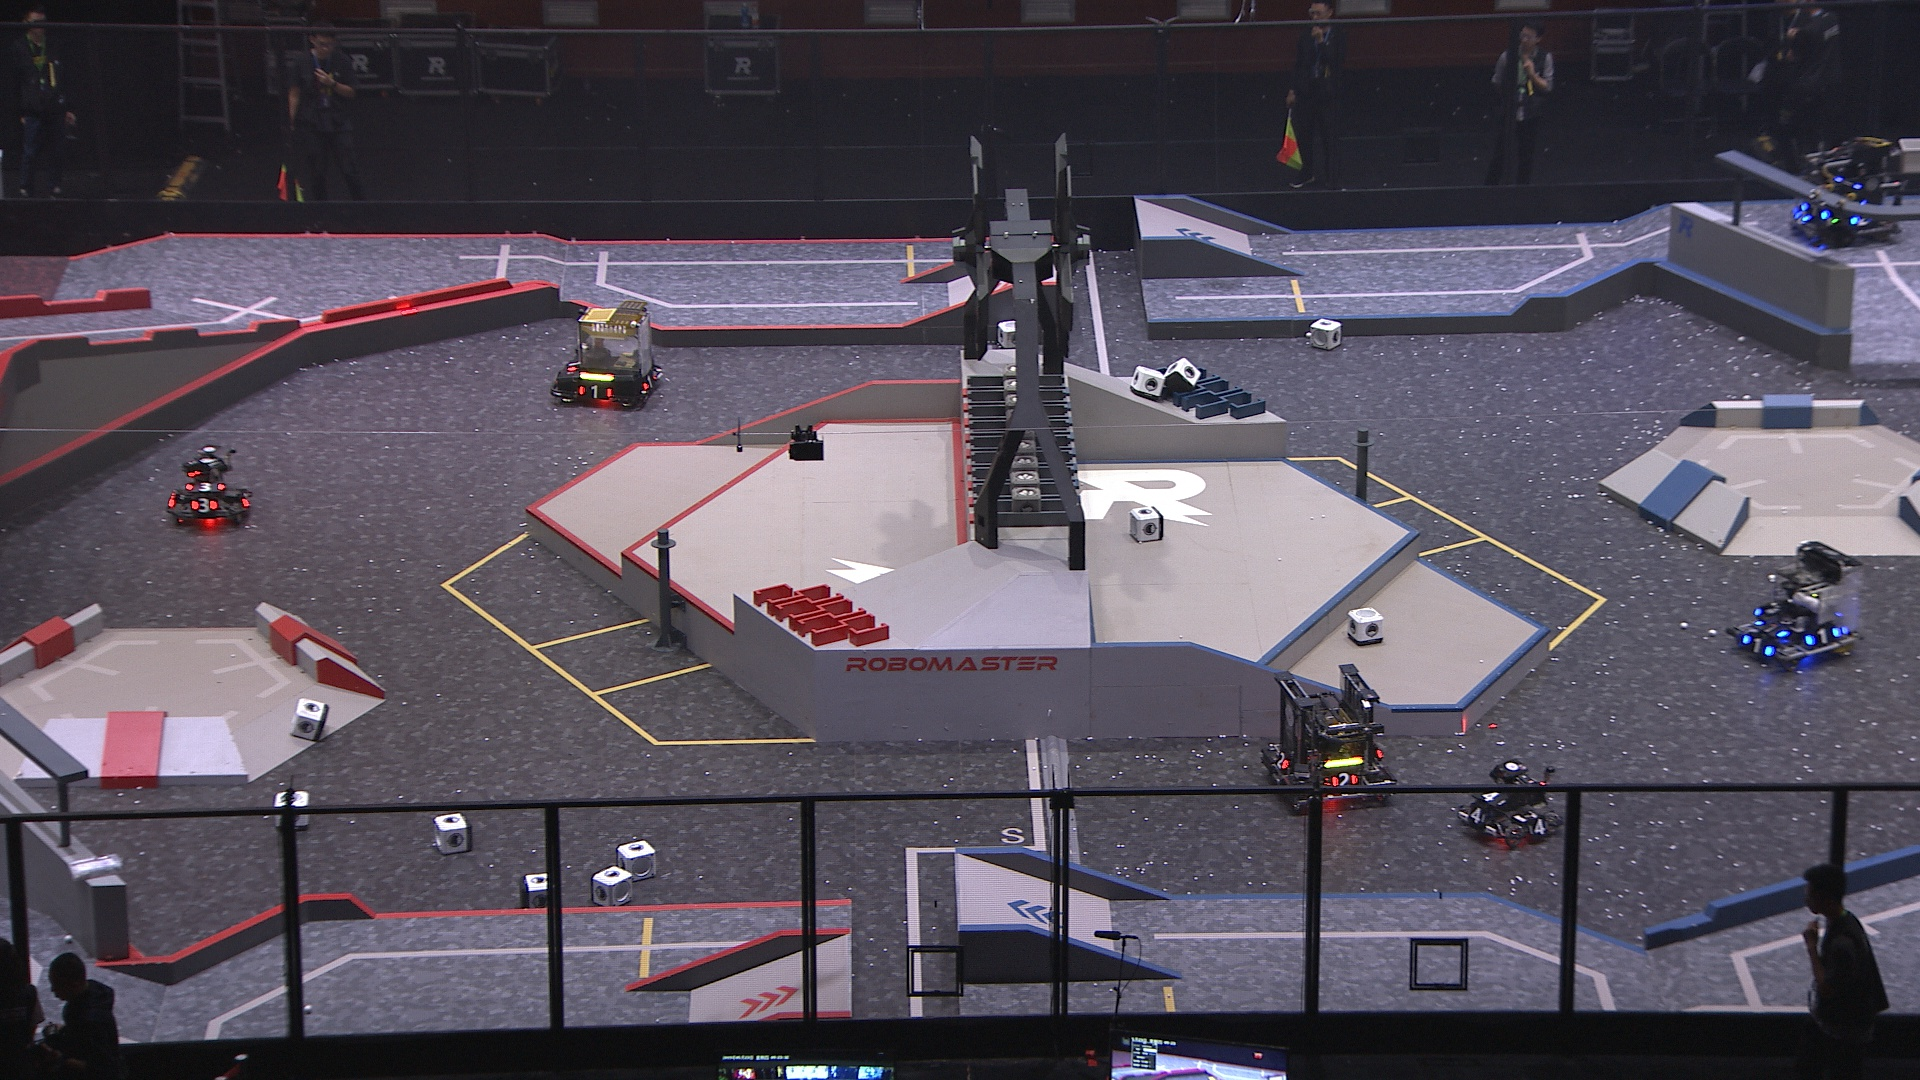armor: (1799, 626, 1842, 646), (1741, 633, 1778, 655), (575, 382, 615, 401), (186, 476, 225, 495), (1754, 618, 1792, 637), (1799, 200, 1832, 222), (186, 495, 219, 514), (233, 487, 256, 514), (1325, 771, 1361, 789), (564, 352, 585, 375), (1466, 806, 1489, 827), (1480, 789, 1506, 806), (638, 372, 661, 392), (1273, 750, 1292, 773), (1524, 818, 1547, 836), (1793, 206, 1812, 225), (1850, 208, 1871, 225)
car: (1258, 659, 1394, 808), (1722, 537, 1865, 669), (550, 295, 675, 409), (1787, 135, 1905, 249), (1452, 754, 1567, 851), (160, 443, 257, 531)
watcher: (1789, 162, 1873, 244)
